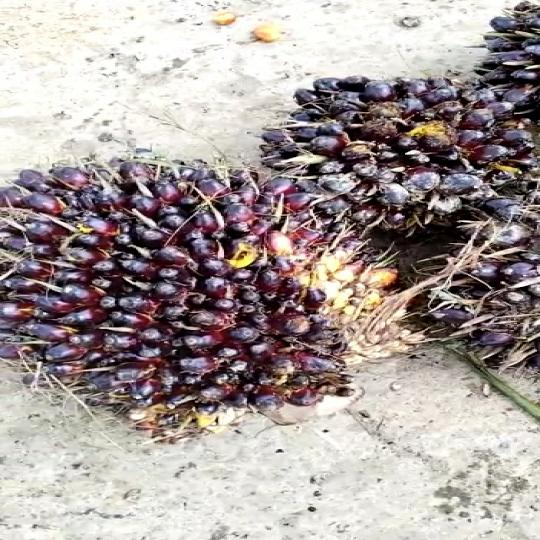kurang masak: (0, 157, 395, 419), (246, 73, 540, 223)
